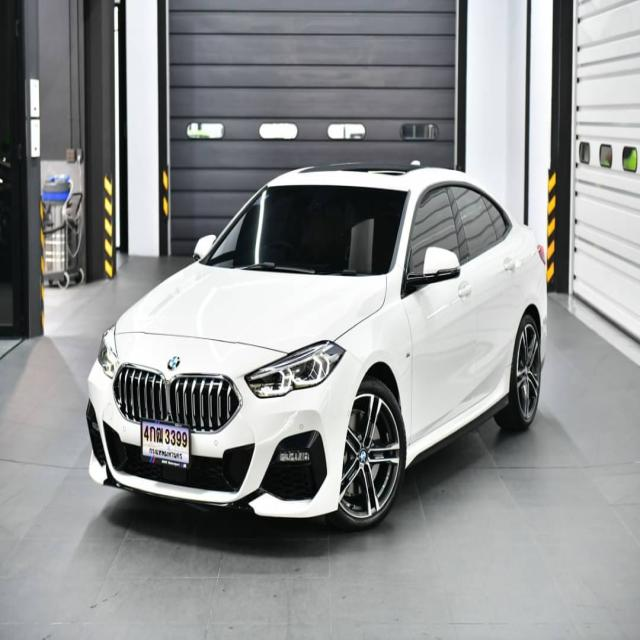license_plate: (140, 416, 191, 474)
